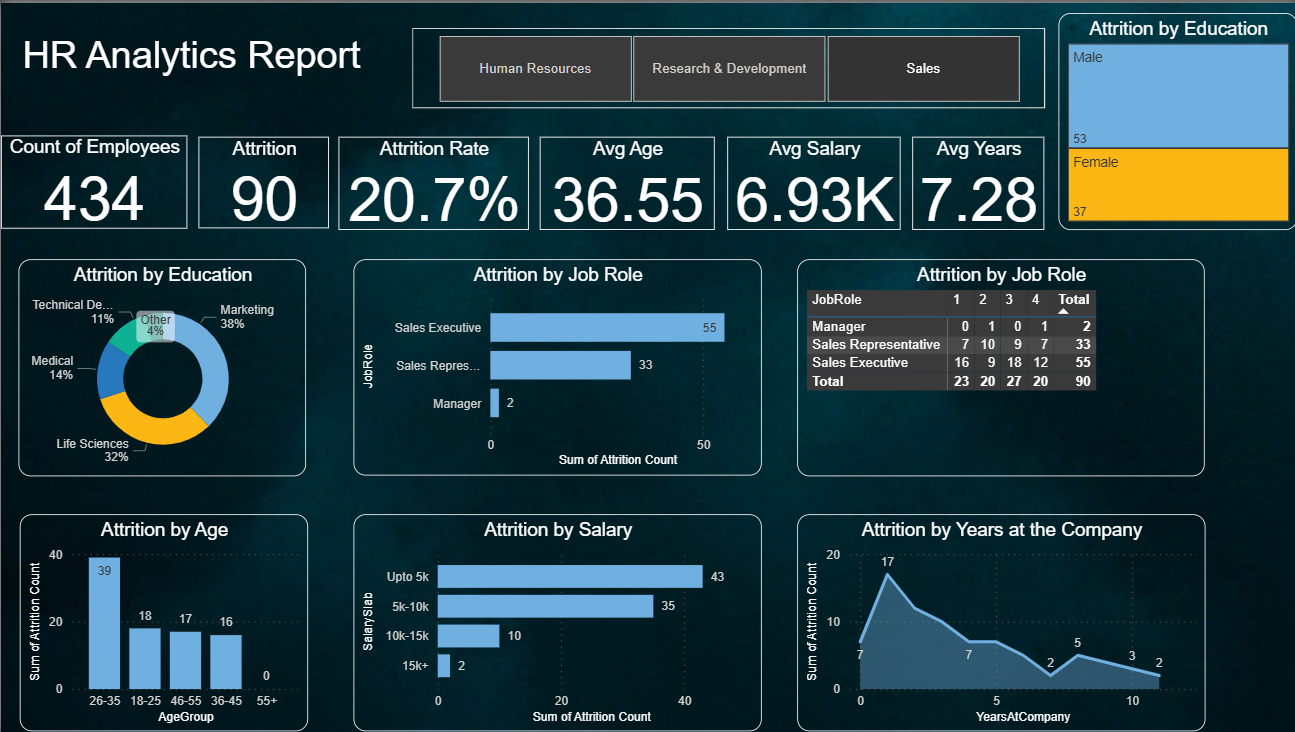

The dashboard page shown, as its layout file describes it:
{"tool":"powerbi","page":{"name":"Page 1","canvas":[1280,720],"ordinal":0},"visuals":[{"type":"card","title":"Count of Employees","fields":{"Values":["CountNonNull(HR_Analytics.EmpID)"]},"box":[0,127.5,177.5,111.2],"z":0},{"type":"card","title":"Attrition Rate","fields":{"Values":["HR_Analytics.Attrition Rate"]},"box":[337.5,127.5,190,111.2],"z":1000},{"type":"card","title":"Attrition","fields":{"Values":["Sum(HR_Analytics.Attrition Count)"]},"box":[186.2,127.5,136.2,111.2],"z":2000},{"type":"card","title":"Avg Age","fields":{"Values":["Avg(HR_Analytics.Age)"]},"box":[546.2,127.5,138.8,111.2],"z":3000},{"type":"card","title":"Avg Salary","fields":{"Values":["Avg(HR_Analytics.MonthlyIncome)"]},"box":[705,127.5,155,111.2],"z":4000},{"type":"card","title":"Avg Years","fields":{"Values":["Avg(HR_Analytics.YearsAtCompany)"]},"box":[875,127.5,155,111.2],"z":5000},{"type":"donutChart","title":"Attrition by Education","fields":{"Category":["HR_Analytics.EducationField"],"Y":["Sum(HR_Analytics.Attrition Count)"]},"box":[16.5,251.3,321.4,217],"z":6000},{"type":"columnChart","title":"Attrition by Age","fields":{"Category":["HR_Analytics.AgeGroup"],"Y":["Sum(HR_Analytics.Attrition Count)"]},"box":[34.3,502.7,303.5,217],"z":7000},{"type":"pivotTable","fields":{"Rows":["HR_Analytics.JobRole"],"Columns":["HR_Analytics.JobSatisfaction"],"Values":["Sum(HR_Analytics.Attrition Count)"]},"box":[925.7,243.1,354.3,232.1],"z":8000},{"type":"barChart","title":"Attrition by Salary","fields":{"Y":["Sum(HR_Analytics.Attrition Count)"],"Category":["HR_Analytics.SalarySlab"]},"box":[440.9,488.9,285.7,230.7],"z":9000},{"type":"barChart","title":"Attrition by Job Role","fields":{"Y":["Sum(HR_Analytics.Attrition Count)"],"Category":["HR_Analytics.JobRole"]},"box":[402.4,243.1,428.5,240.3],"z":10000},{"type":"areaChart","title":"Attrition by Years at the Company","fields":{"Y":["Sum(HR_Analytics.Attrition Count)"],"Category":["HR_Analytics.YearsAtCompany"]},"box":[851.5,479.3,428.5,240.3],"z":11000},{"type":"treemap","title":"Attrition by Job Role","fields":{"Values":["Sum(HR_Analytics.Attrition Count)"],"Group":["HR_Analytics.Gender"]},"box":[1039.7,28.8,229.4,214.2],"z":12000},{"type":"slicer","fields":{"Values":["HR_Analytics.Department"]},"box":[402.4,28.8,605.7,64.5],"z":13000},{"type":"textbox","box":[0,29.3,412,63.6],"z":14000}]}

Visuals, with their boxes in screenshot pixels (x1, y1, x2, y2), scaled from the page's 1280x720 canvas onto the 1295x732 screenshot:
"Count of Employees" card: 0, 130, 180, 243
"Attrition Rate" card: 341, 130, 534, 243
"Attrition" card: 188, 130, 326, 243
"Avg Age" card: 553, 130, 693, 243
"Avg Salary" card: 713, 130, 870, 243
"Avg Years" card: 885, 130, 1042, 243
"Attrition by Education" donutChart: 17, 255, 342, 476
"Attrition by Age" columnChart: 35, 511, 342, 731
pivotTable - HR_Analytics.JobRole x HR_Analytics.JobSatisfaction: 937, 247, 1294, 483
"Attrition by Salary" barChart: 446, 497, 735, 731
"Attrition by Job Role" barChart: 407, 247, 841, 491
"Attrition by Years at the Company" areaChart: 861, 487, 1294, 731
"Attrition by Job Role" treemap: 1052, 29, 1284, 247
slicer - HR_Analytics.Department: 407, 29, 1020, 95
textbox: 0, 30, 417, 94
